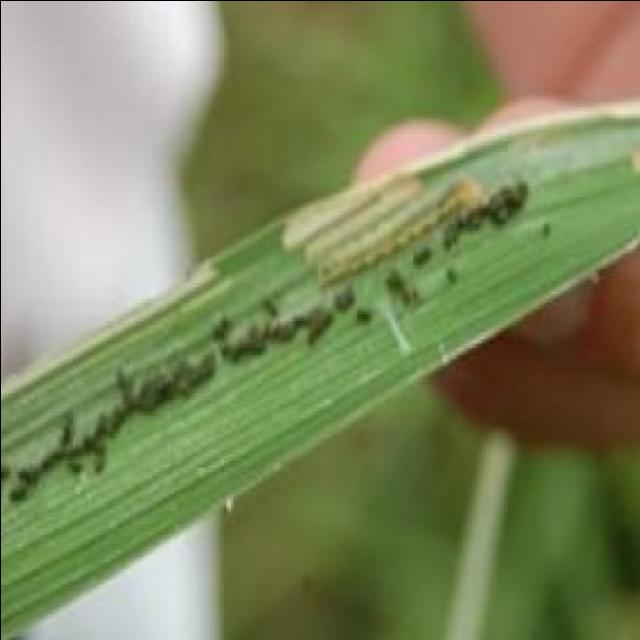rice leaf roller: (11, 178, 530, 496)
